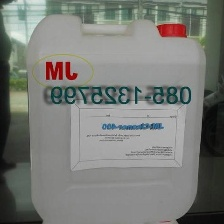cleaning_solution: (24, 11, 208, 223)
